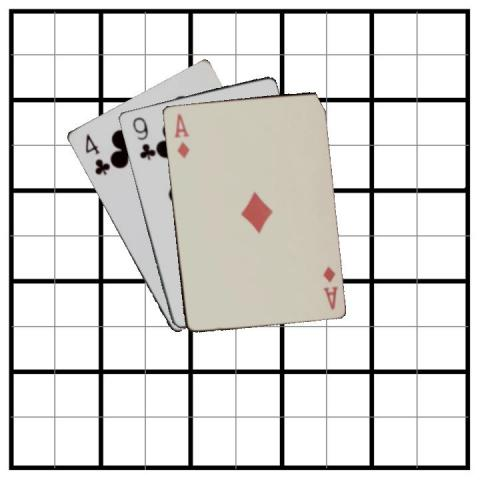4c: (81, 131, 111, 177)
9c: (129, 114, 153, 162)
Ad: (170, 110, 190, 160), (320, 263, 339, 311)
